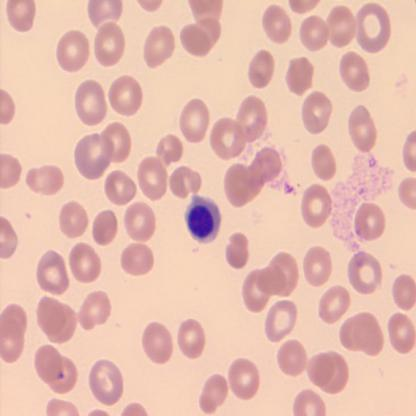NRC: (184, 192, 222, 246)
